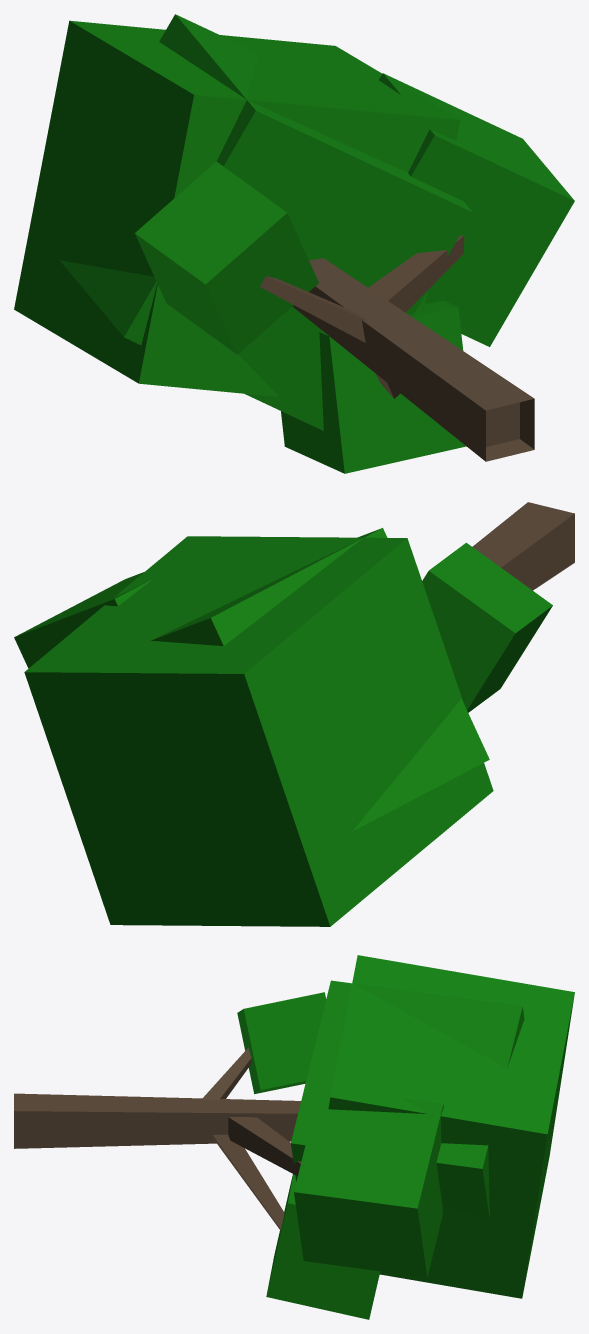
File: placeholder_trees.fbx
3 views of the same model, one above another, from view 1: azimuth 30°, elevation 25°; view 2: azimuth 150°, elevation 25°; view 3: azimuth 270°, elevation 25° (orthographic). The views are drawn at different scales.
Visible parts, largest first — view 1: Tree_02, Tree_01, Tree_03; view 2: Tree_01, Tree_02, Tree_03; view 3: Tree_02, Tree_01, Tree_03.
Boxes of the visible parts, x1,y1,x2,y2 form: Tree_02: [59, 14, 574, 461]; Tree_01: [14, 20, 519, 446]; Tree_03: [135, 161, 466, 473]; Tree_01: [24, 536, 493, 926]; Tree_02: [14, 502, 574, 831]; Tree_03: [422, 542, 552, 712]; Tree_02: [14, 980, 524, 1277]; Tree_01: [328, 955, 574, 1298]; Tree_03: [201, 992, 380, 1319].
Size of the model in its own units: 726 by 589 by 1050.
